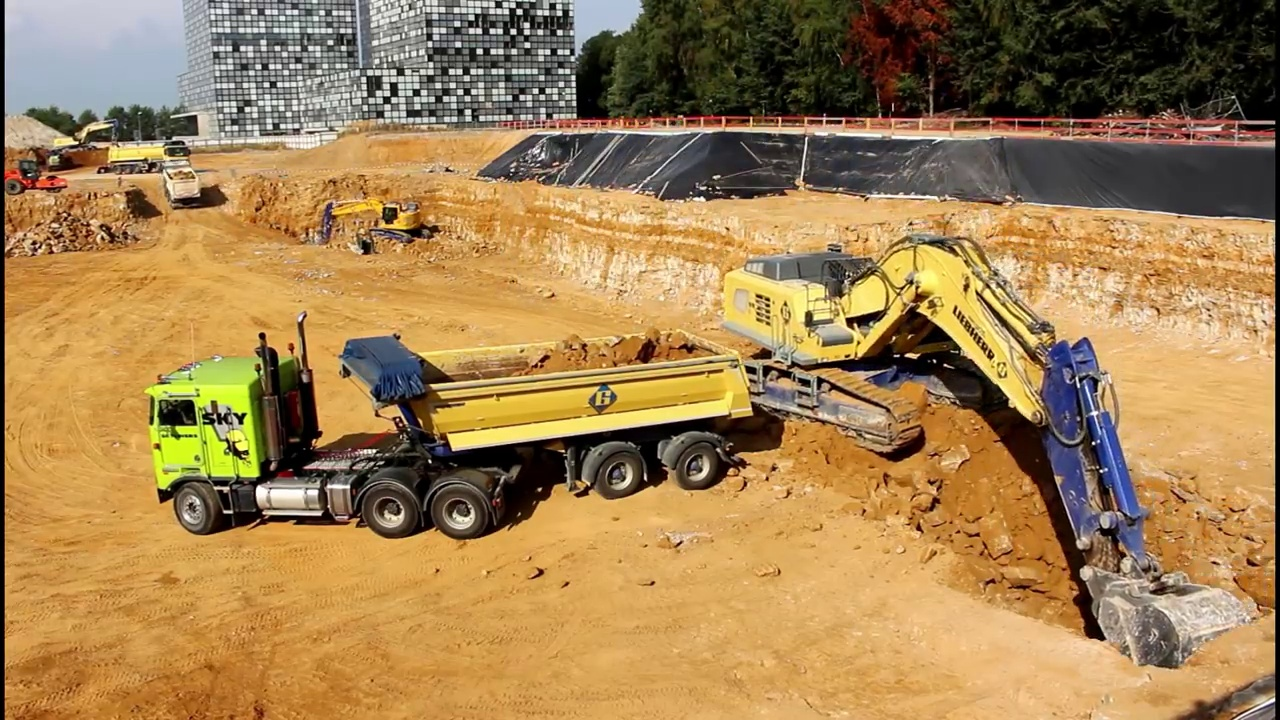compactor: (4, 157, 71, 196)
excavator: (708, 227, 1270, 686), (309, 195, 440, 257), (37, 113, 123, 159)
truck: (142, 305, 759, 544), (99, 137, 194, 175), (157, 157, 208, 212)
